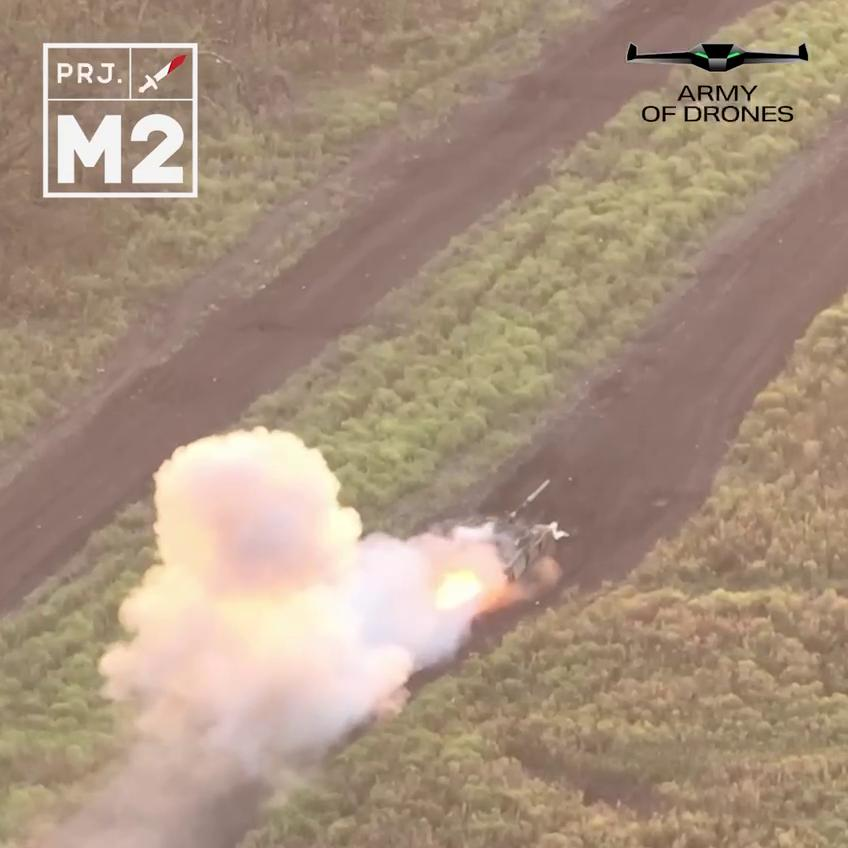tank: (456, 478, 572, 613)
